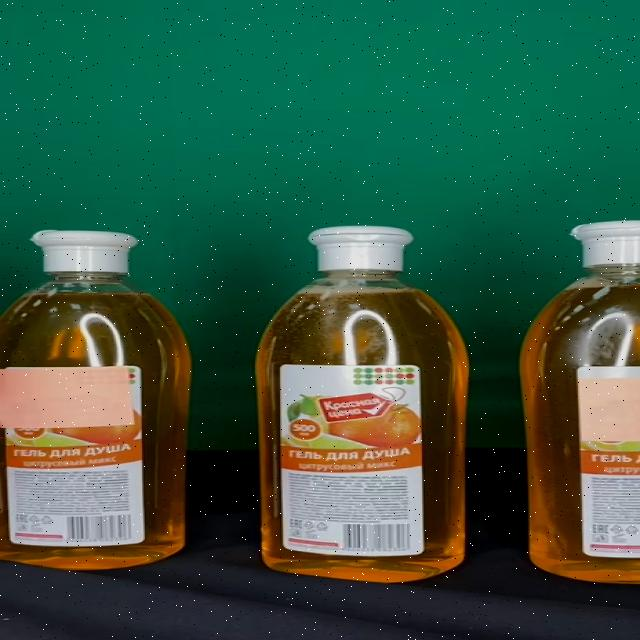Bottle: (256, 226, 468, 583), (0, 229, 192, 570)
Cap: (310, 226, 413, 270), (32, 230, 137, 273)
